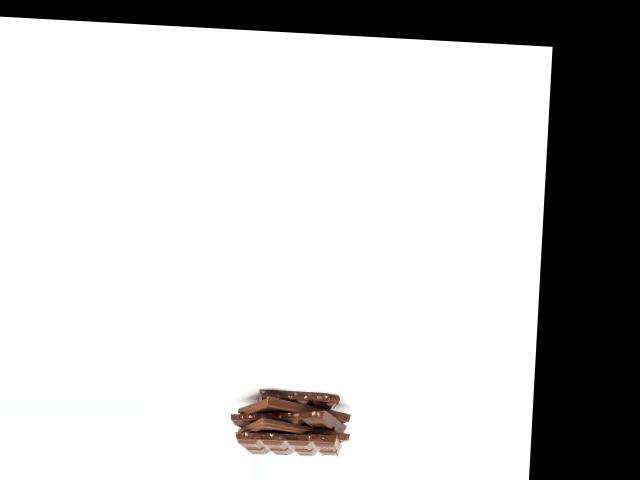chocolate: (237, 381, 349, 432)
